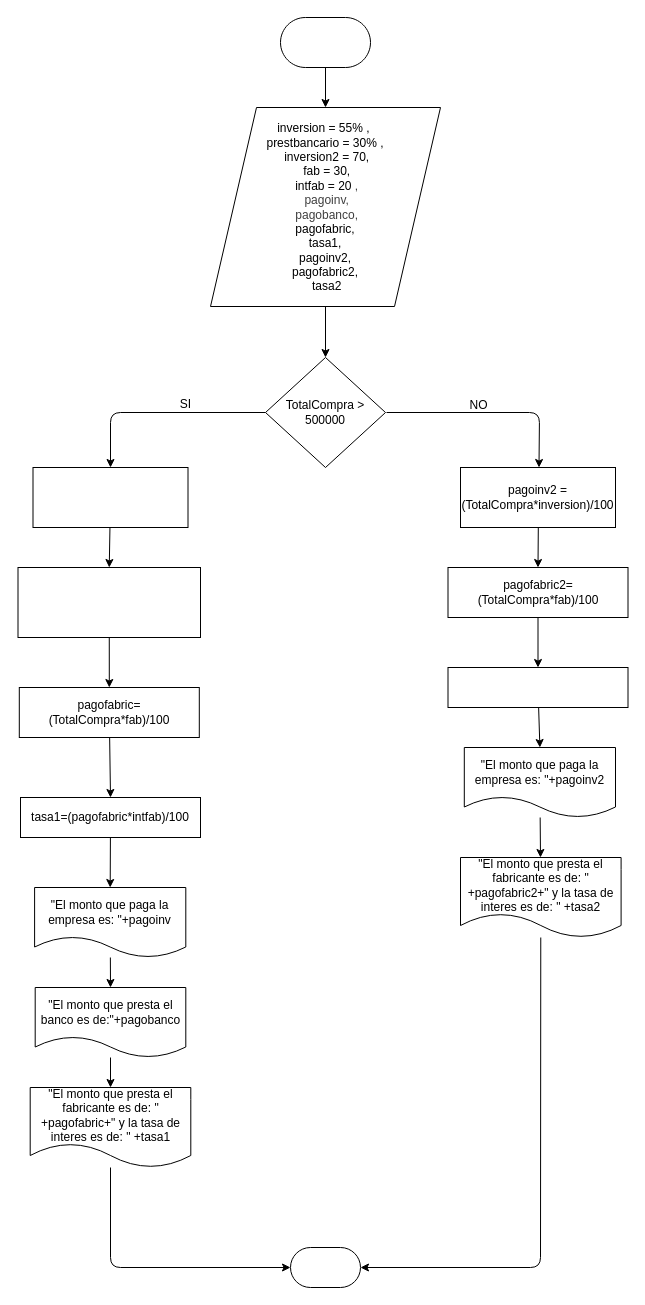
Image size: 645x1305. Some labels were removed from this diagram. The centre of each missing label's shape, as x and y in pixels:
"Fin" belongs at point 325,1267.
"Inicio" belongs at point 325,42.
"pagobanco=(TotalCompra*prestbancario)/100" belongs at point 108,602.
"pagoinv = (TotalCompra*inversion)/100" belongs at point 110,497.
"tasa2=(pagofabric2*intfab)/100" belongs at point 537,687.
